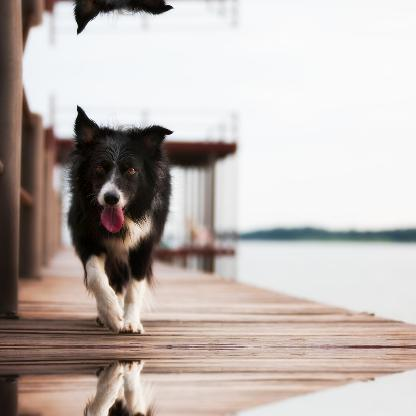Dog: (61, 103, 173, 333), (61, 359, 174, 415)
